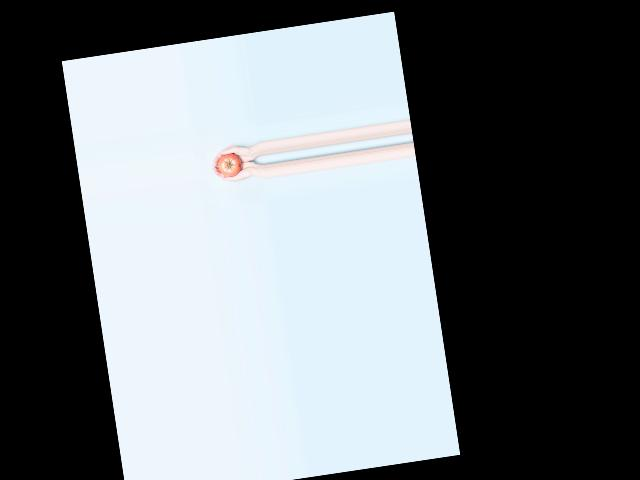tomato: (216, 151, 243, 177)
